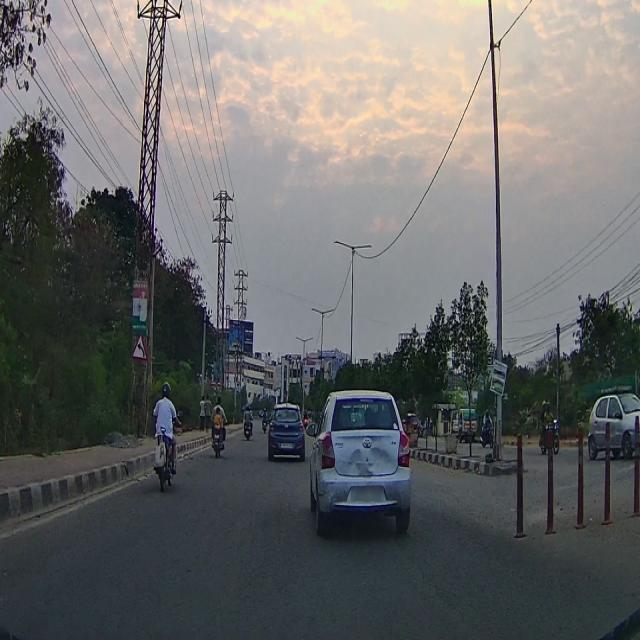left-hand-curve: (133, 334, 147, 364)
